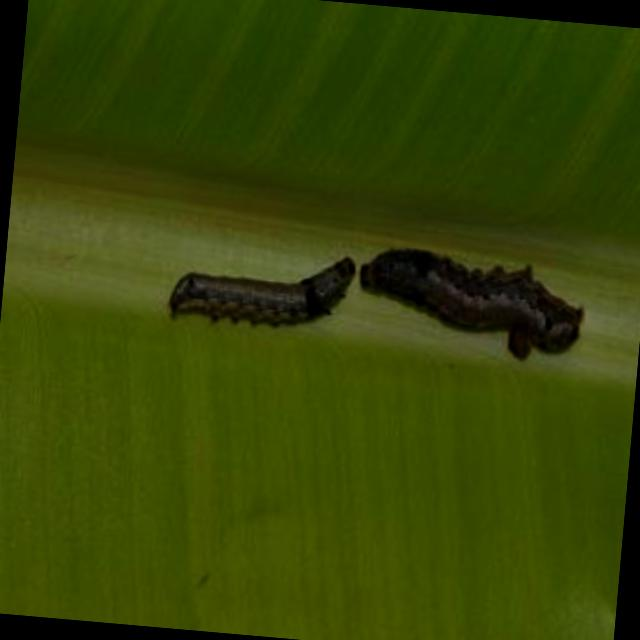Tobacco cutworm: (337, 195, 634, 428), (119, 167, 372, 428)
